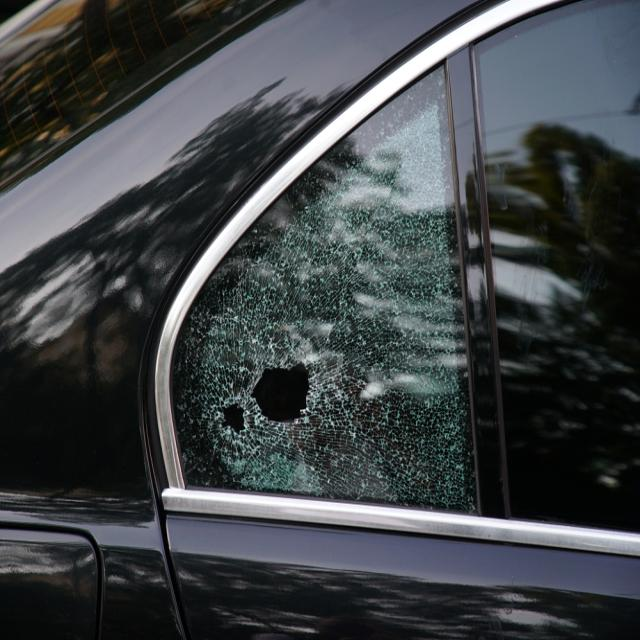Fissure: (173, 56, 476, 517)
